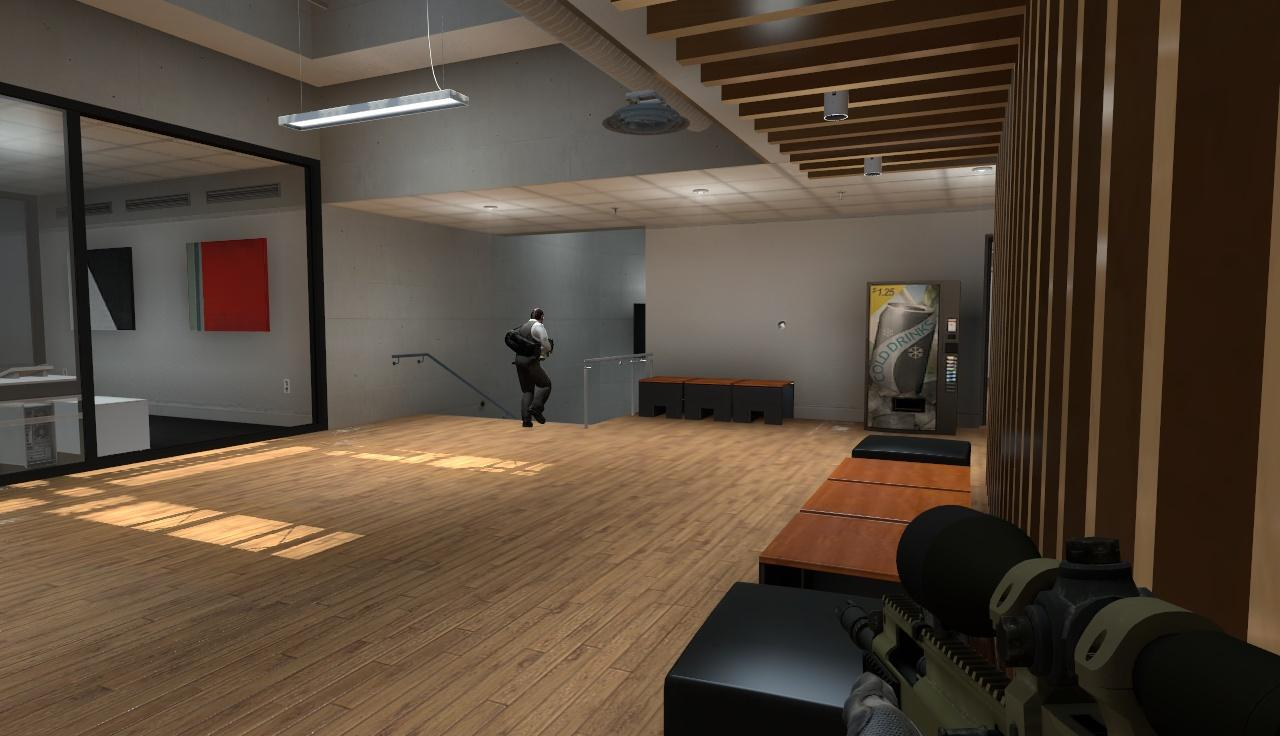ct: (514, 308, 551, 425)
cthead: (531, 309, 544, 324)
sniper: (826, 494, 1280, 736)
